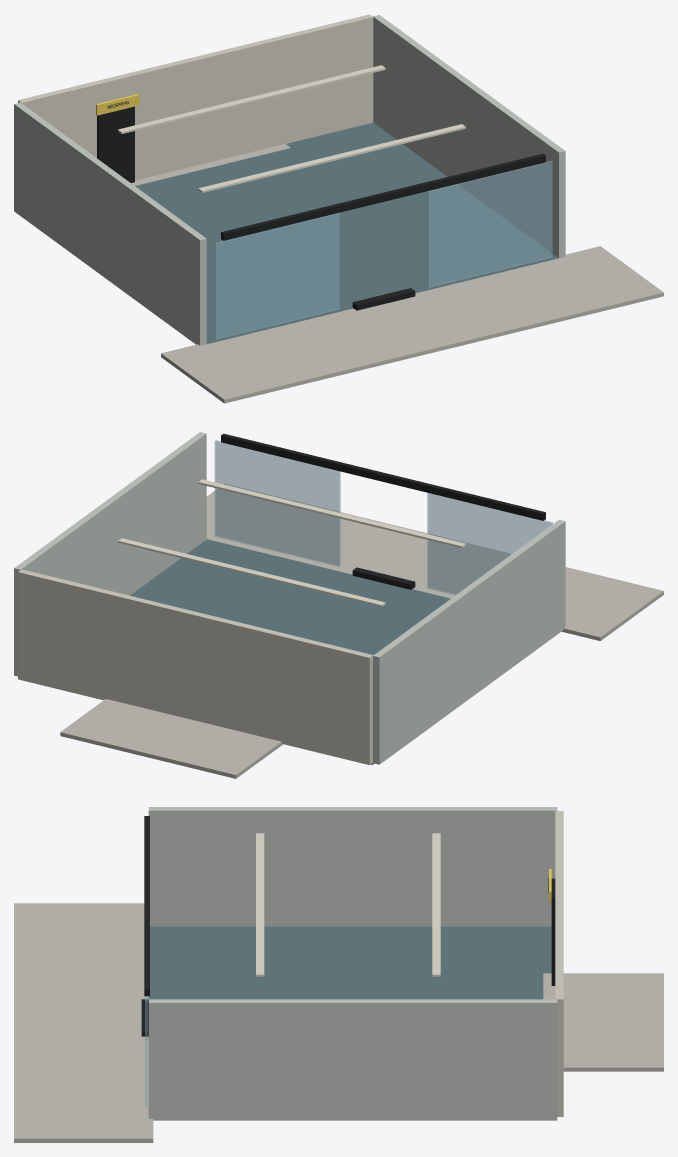
File: mall_store_shell.glb
The picture shows the model from 3 angles, top to bottom: view 1: azimuth 30°, elevation 25°; view 2: azimuth 150°, elevation 25°; view 3: azimuth 270°, elevation 25°; orthographic projection. The views are drawn at different scales.
Visible parts, largest first — view 1: store_low_pile_carpet_floor, rear_slatwall_game_wall, mall_concourse_tile_floor, left_wall_light_retail, right_wall_light_retail, storefront_glass_left_bay, storefront_glass_right_bay, storefront_upper_frame, backroom_door_frame, ceiling_light_bar_front, ceiling_light_bar_rear, backroom_sealed_floor (+1 smaller); view 2: rear_slatwall_game_wall, left_wall_light_retail, mall_concourse_tile_floor, store_low_pile_carpet_floor, right_wall_light_retail, storefront_glass_right_bay, backroom_sealed_floor, storefront_glass_left_bay, storefront_upper_frame, ceiling_light_bar_front, ceiling_light_bar_rear, storefront_door_threshold; view 3: right_wall_light_retail, left_wall_light_retail, mall_concourse_tile_floor, store_low_pile_carpet_floor, backroom_sealed_floor, rear_slatwall_game_wall, ceiling_light_bar_front, ceiling_light_bar_rear, storefront_upper_frame, backroom_door_frame.
Boxes of the visible parts, x1=… form: store_low_pile_carpet_floor: x1=135, y1=122, x2=558, y2=343; rear_slatwall_game_wall: x1=18, y1=14, x2=373, y2=180; mall_concourse_tile_floor: x1=161, y1=246, x2=663, y2=403; left_wall_light_retail: x1=14, y1=102, x2=206, y2=345; right_wall_light_retail: x1=373, y1=15, x2=565, y2=258; storefront_glass_left_bay: x1=214, y1=212, x2=340, y2=339; storefront_glass_right_bay: x1=427, y1=160, x2=552, y2=287; storefront_upper_frame: x1=221, y1=153, x2=545, y2=240; backroom_door_frame: x1=97, y1=106, x2=134, y2=182; ceiling_light_bar_front: x1=198, y1=124, x2=465, y2=192; ceiling_light_bar_rear: x1=118, y1=65, x2=385, y2=133; backroom_sealed_floor: x1=131, y1=144, x2=290, y2=185; rear_slatwall_game_wall: x1=18, y1=569, x2=373, y2=764; left_wall_light_retail: x1=373, y1=519, x2=565, y2=764; mall_concourse_tile_floor: x1=205, y1=484, x2=663, y2=640; store_low_pile_carpet_floor: x1=130, y1=539, x2=450, y2=764; right_wall_light_retail: x1=14, y1=432, x2=206, y2=676; storefront_glass_right_bay: x1=214, y1=440, x2=340, y2=566; backroom_sealed_floor: x1=60, y1=699, x2=282, y2=778; storefront_glass_left_bay: x1=427, y1=493, x2=552, y2=595; storefront_upper_frame: x1=221, y1=433, x2=545, y2=520; ceiling_light_bar_front: x1=198, y1=479, x2=465, y2=547; ceiling_light_bar_rear: x1=118, y1=538, x2=385, y2=606; storefront_door_threshold: x1=352, y1=567, x2=415, y2=589; right_wall_light_retail: x1=148, y1=999, x2=557, y2=1120; left_wall_light_retail: x1=148, y1=807, x2=557, y2=926; mall_concourse_tile_floor: x1=14, y1=903, x2=153, y2=1142; store_low_pile_carpet_floor: x1=148, y1=926, x2=551, y2=999; backroom_sealed_floor: x1=543, y1=973, x2=663, y2=1071; rear_slatwall_game_wall: x1=555, y1=811, x2=563, y2=1116; ceiling_light_bar_front: x1=256, y1=833, x2=264, y2=976; ceiling_light_bar_rear: x1=432, y1=833, x2=440, y2=976; storefront_upper_frame: x1=144, y1=816, x2=149, y2=996; backroom_door_frame: x1=551, y1=878, x2=555, y2=985.
Bounding box in the file's own units: 12 × 2.92 × 14.
